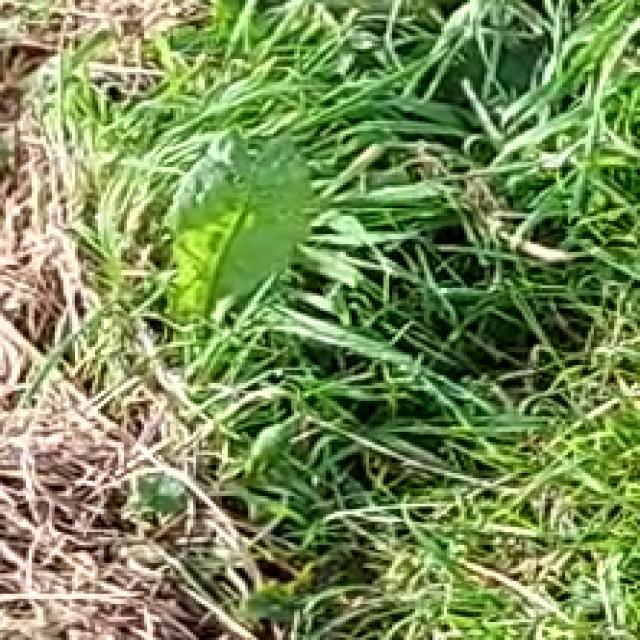organic waste: (92, 77, 349, 437)
